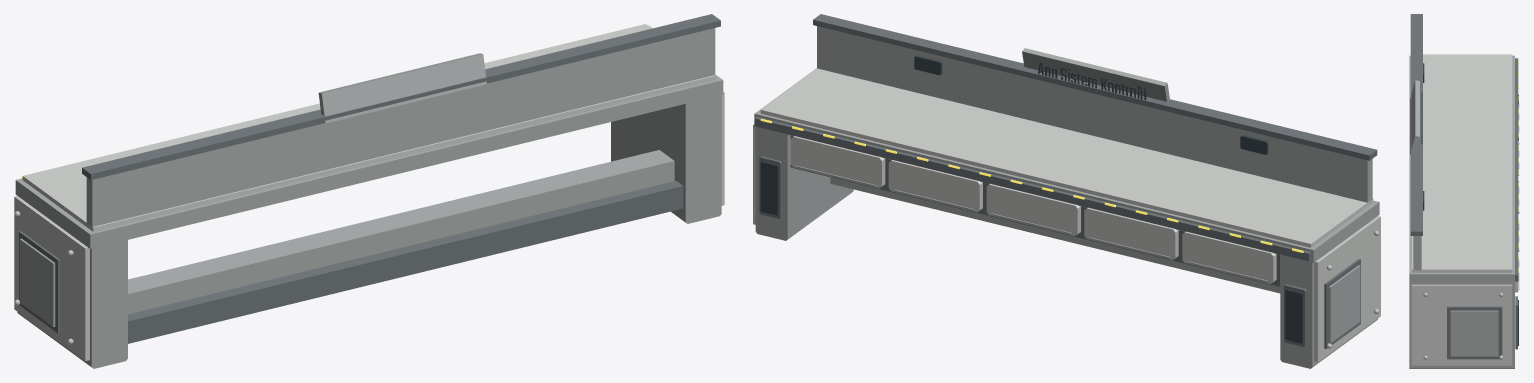
The model's file is ANA_SISTEM_KONSOL_GOVDESI_06_REV2.glb.
The picture shows the model from 3 angles, left to right: view 1: azimuth 30°, elevation 25°; view 2: azimuth 150°, elevation 25°; view 3: azimuth 270°, elevation 25°; orthographic projection. The views are drawn at different scales.
Parts seen in each view (by area): view 1: Console_rear_guard, Underside_horizontal_support, Bottom_rear_structural_rail, Worktop_main_slab, Worktop_top, Pedestal_side_1, Console_rear_guard_cap, Side_endcap_-1, Pedestal_side_-1, Main_control_nameplate_blank, End_inner_panel_-1, End_inset_-1; view 2: Worktop_top, Console_rear_guard, Console_rear_guard_cap, Worktop_front_dark_edge, Pedestal_side_1, Side_endcap_-1, Worktop_main_slab, Underside_horizontal_support, Drawer_front_4, Drawer_front_0, Drawer_front_2, Drawer_front_3 (+11 smaller); view 3: Worktop_top, Side_endcap_1, Worktop_main_slab, Console_rear_guard_cap, End_inner_panel_1, Pedestal_side_1, Worktop_front_dark_edge, End_inset_1, Main_control_nameplate_blank, Console_rear_guard, Leg_service_bezel_1.
Part boxes in pixels (left/top/right/bottom): Console_rear_guard: left=86, top=28, right=715, bottom=227; Underside_horizontal_support: left=128, top=150, right=674, bottom=314; Bottom_rear_structural_rail: left=128, top=181, right=683, bottom=343; Worktop_main_slab: left=15, top=25, right=723, bottom=248; Worktop_top: left=22, top=24, right=716, bottom=231; Pedestal_side_1: left=611, top=90, right=721, bottom=223; Console_rear_guard_cap: left=82, top=14, right=720, bottom=179; Side_endcap_-1: left=14, top=196, right=89, bottom=361; Pedestal_side_-1: left=17, top=235, right=127, bottom=368; Main_control_nameplate_blank: left=318, top=53, right=486, bottom=123; End_inner_panel_-1: left=19, top=238, right=55, bottom=327; End_inset_-1: left=19, top=231, right=60, bottom=333; Worktop_top: left=760, top=68, right=1373, bottom=247; Console_rear_guard: left=817, top=26, right=1372, bottom=202; Console_rear_guard_cap: left=813, top=14, right=1377, bottom=160; Worktop_front_dark_edge: left=754, top=117, right=1311, bottom=261; Pedestal_side_1: left=755, top=126, right=853, bottom=240; Side_endcap_-1: left=1314, top=216, right=1380, bottom=361; Worktop_main_slab: left=754, top=68, right=1379, bottom=262; Underside_horizontal_support: left=830, top=177, right=1280, bottom=293; Drawer_front_4: left=790, top=136, right=885, bottom=188; Drawer_front_0: left=1182, top=231, right=1276, bottom=283; Drawer_front_2: left=986, top=183, right=1080, bottom=235; Drawer_front_3: left=888, top=160, right=982, bottom=212; Worktop_top: left=1412, top=54, right=1512, bottom=272; Side_endcap_1: left=1411, top=284, right=1512, bottom=365; Worktop_main_slab: left=1409, top=55, right=1514, bottom=284; Console_rear_guard_cap: left=1410, top=14, right=1422, bottom=235; End_inner_panel_1: left=1450, top=310, right=1498, bottom=356; Pedestal_side_1: left=1409, top=284, right=1514, bottom=368; Worktop_front_dark_edge: left=1515, top=58, right=1518, bottom=281; End_inset_1: left=1447, top=306, right=1502, bottom=359; Main_control_nameplate_blank: left=1410, top=80, right=1419, bottom=155; Console_rear_guard: left=1413, top=236, right=1421, bottom=270; Leg_service_bezel_1: left=1515, top=296, right=1517, bottom=349.
Size of the model in its own units: 8.51 by 2.68 by 1.75.
